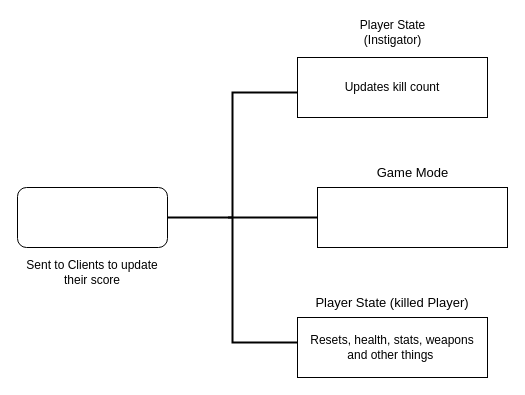
Image size: 525x395. Some labels were removed from this diagram. Here are the shapes that lost their labels. From the top down, the centre of each, then its label:
At point 92,217: "OnPlayerDeath (Instigator, KilledPlayer)".
At point 412,217: "Tracks all the kills and score for all the players".
